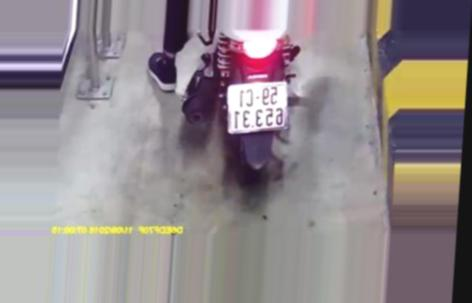License_Plate: (223, 79, 296, 135)
